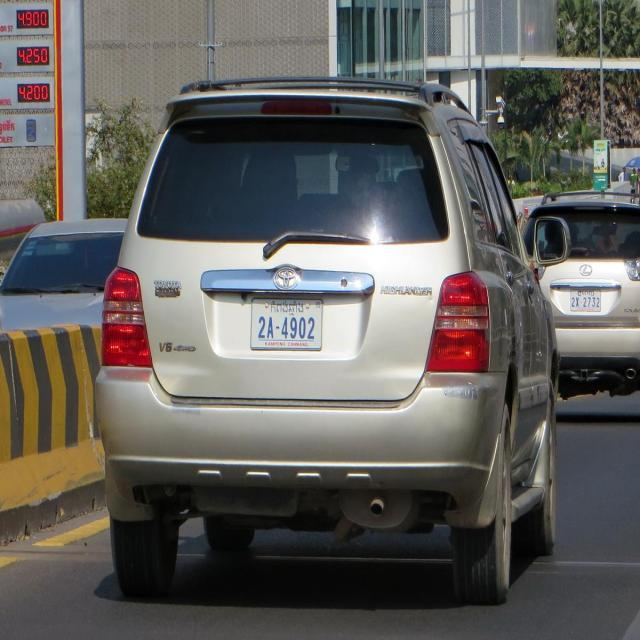Kampong_Chhnang: (269, 297, 306, 317)
